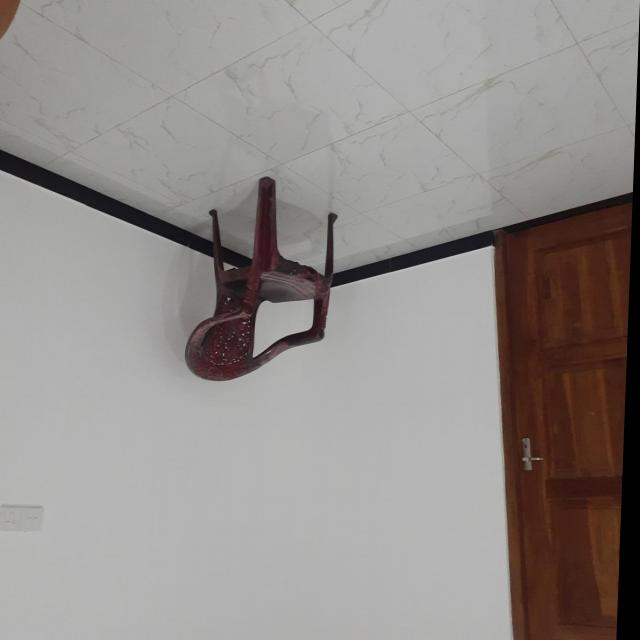Chair: (186, 176, 340, 382)
